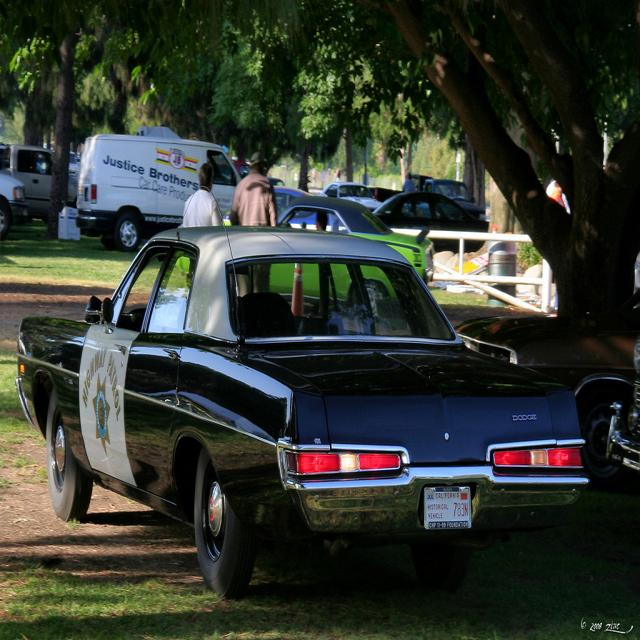car: (34, 218, 589, 604)
